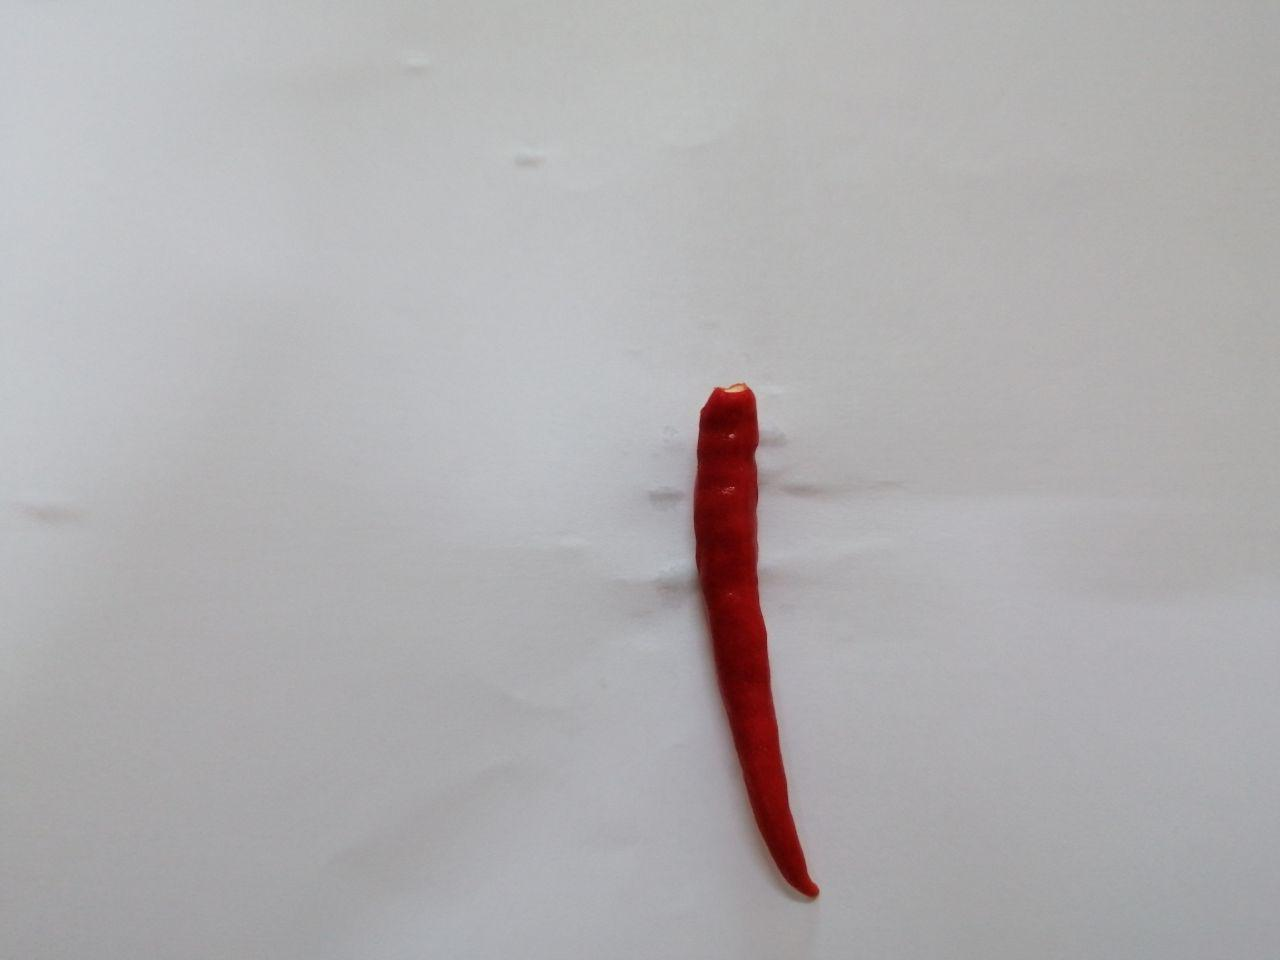lada merah: (649, 359, 878, 925)
